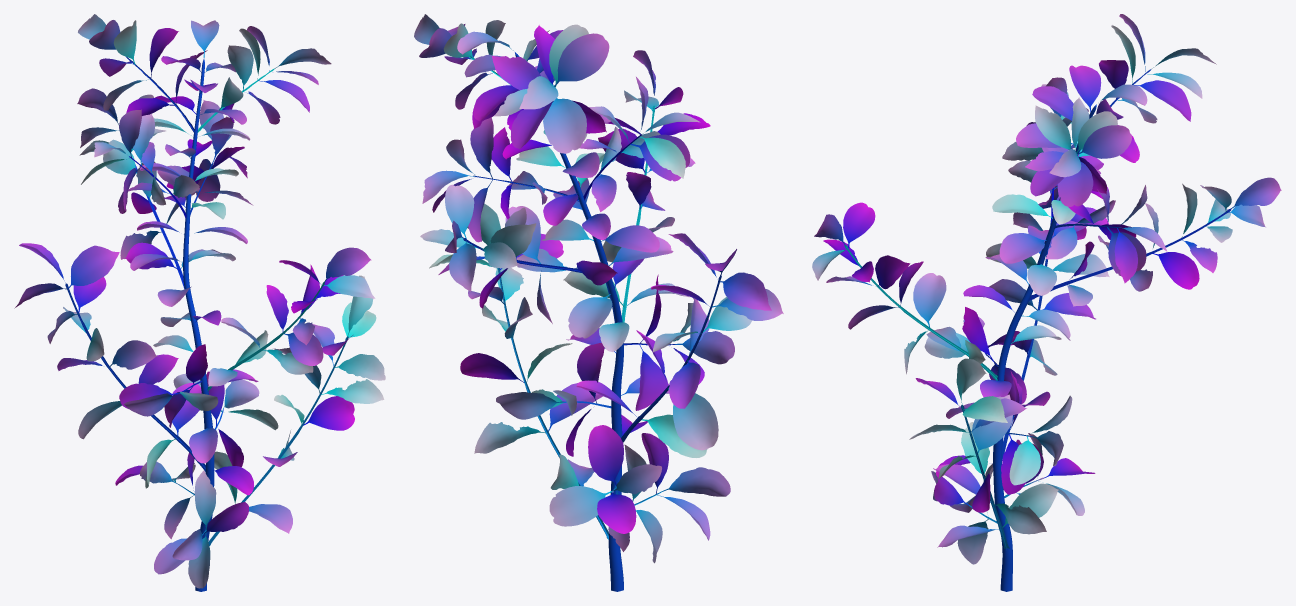
The model's file is European_Spindle_wk1ncbxja_Raw_wk1ncbxja_VarH_LOD0.fbx.
3 views of the same model, side by side, from view 1: azimuth 30°, elevation 25°; view 2: azimuth 150°, elevation 25°; view 3: azimuth 270°, elevation 25° (orthographic). The views are drawn at different scales.
Visible parts, largest first — view 1: _iwwr_VarH_High; view 2: _iwwr_VarH_High; view 3: _iwwr_VarH_High.
Part boxes in pixels (<box>): _iwwr_VarH_High: <box>14,14,385,591</box>; _iwwr_VarH_High: <box>414,14,783,591</box>; _iwwr_VarH_High: <box>812,14,1281,591</box>.
Bounding box in the file's own units: 54.59 × 85.71 × 65.62.
